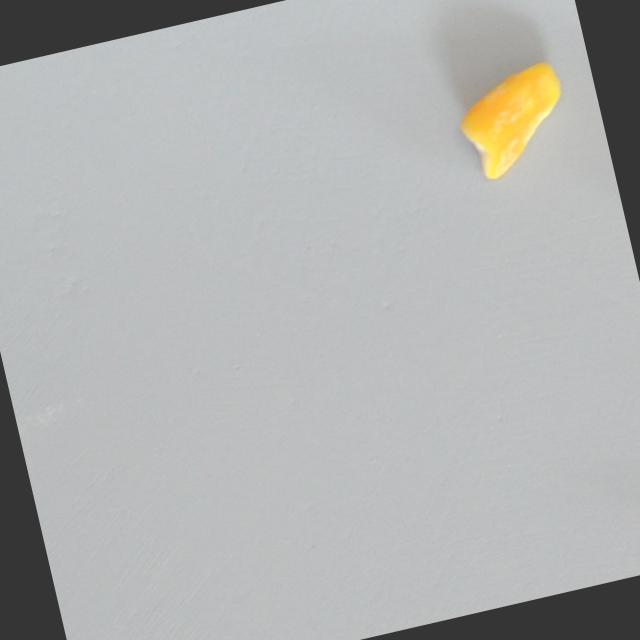pelicula: (451, 55, 582, 182)
